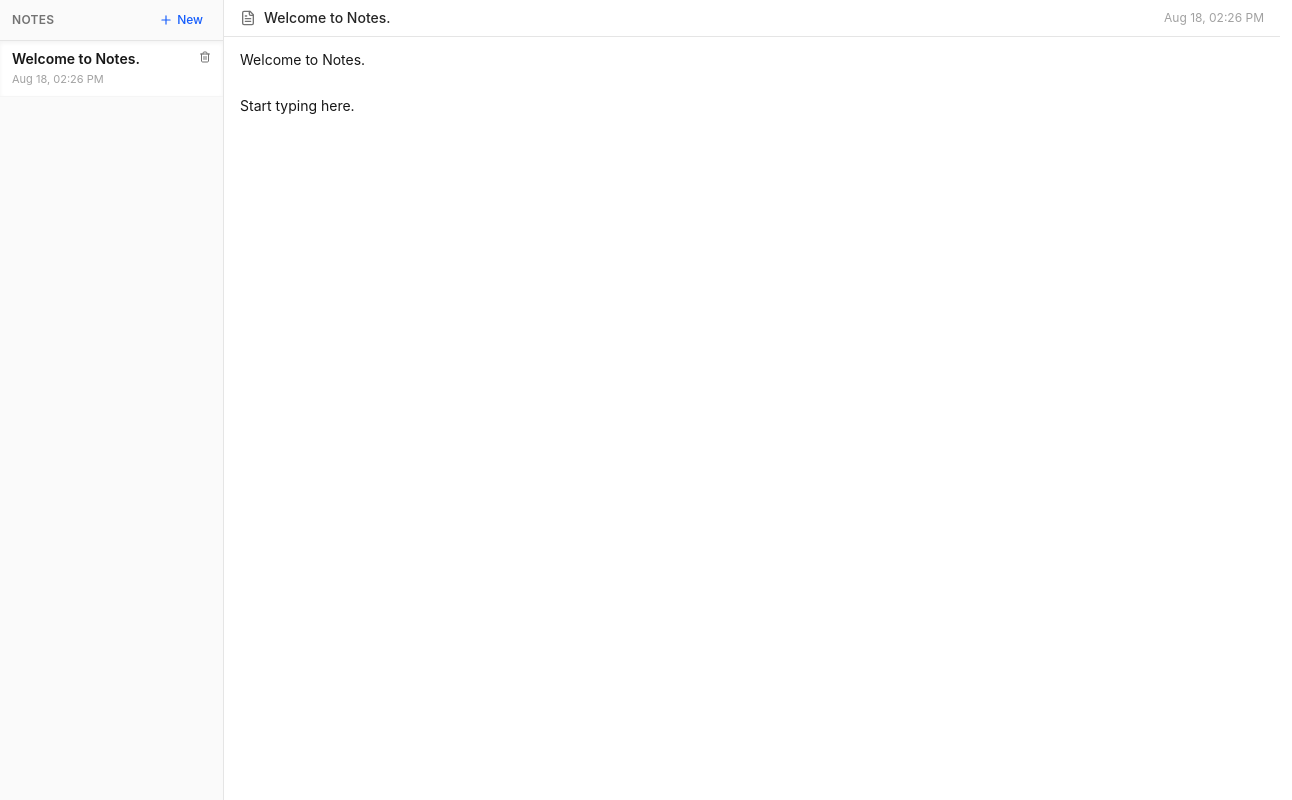
Scenario: Notes app › creates a new note via the New button
Click the button with test id "new-note-btn".
click(181, 20)  # box [151, 8, 211, 32]
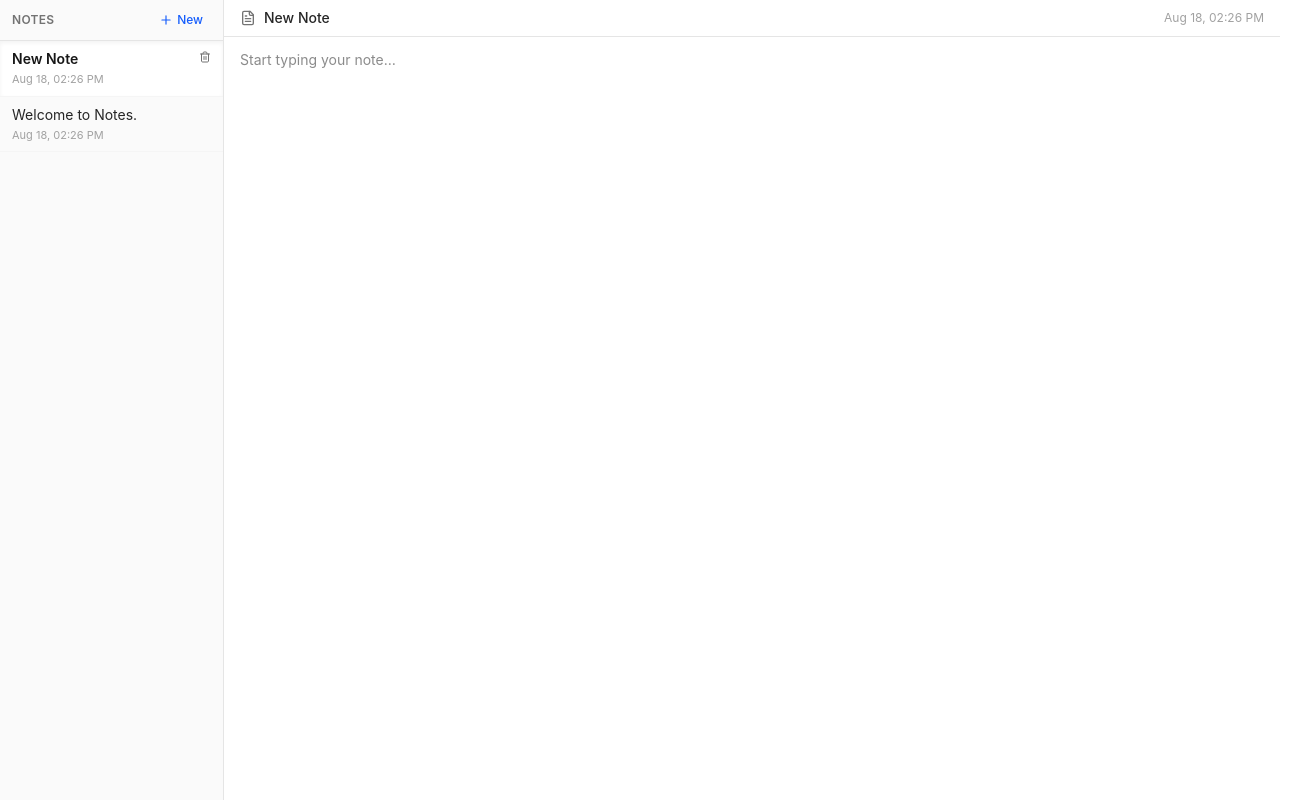
Expected: the text with test id "note-active-title" reads "New Note", [264, 9, 330, 26]
